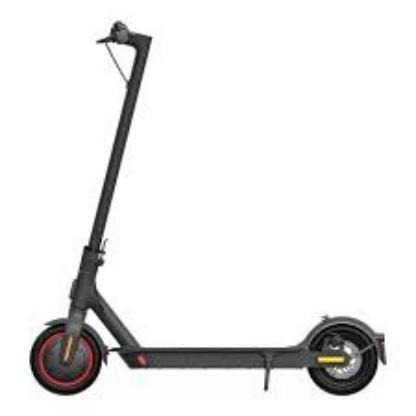bike: (28, 21, 390, 399)
